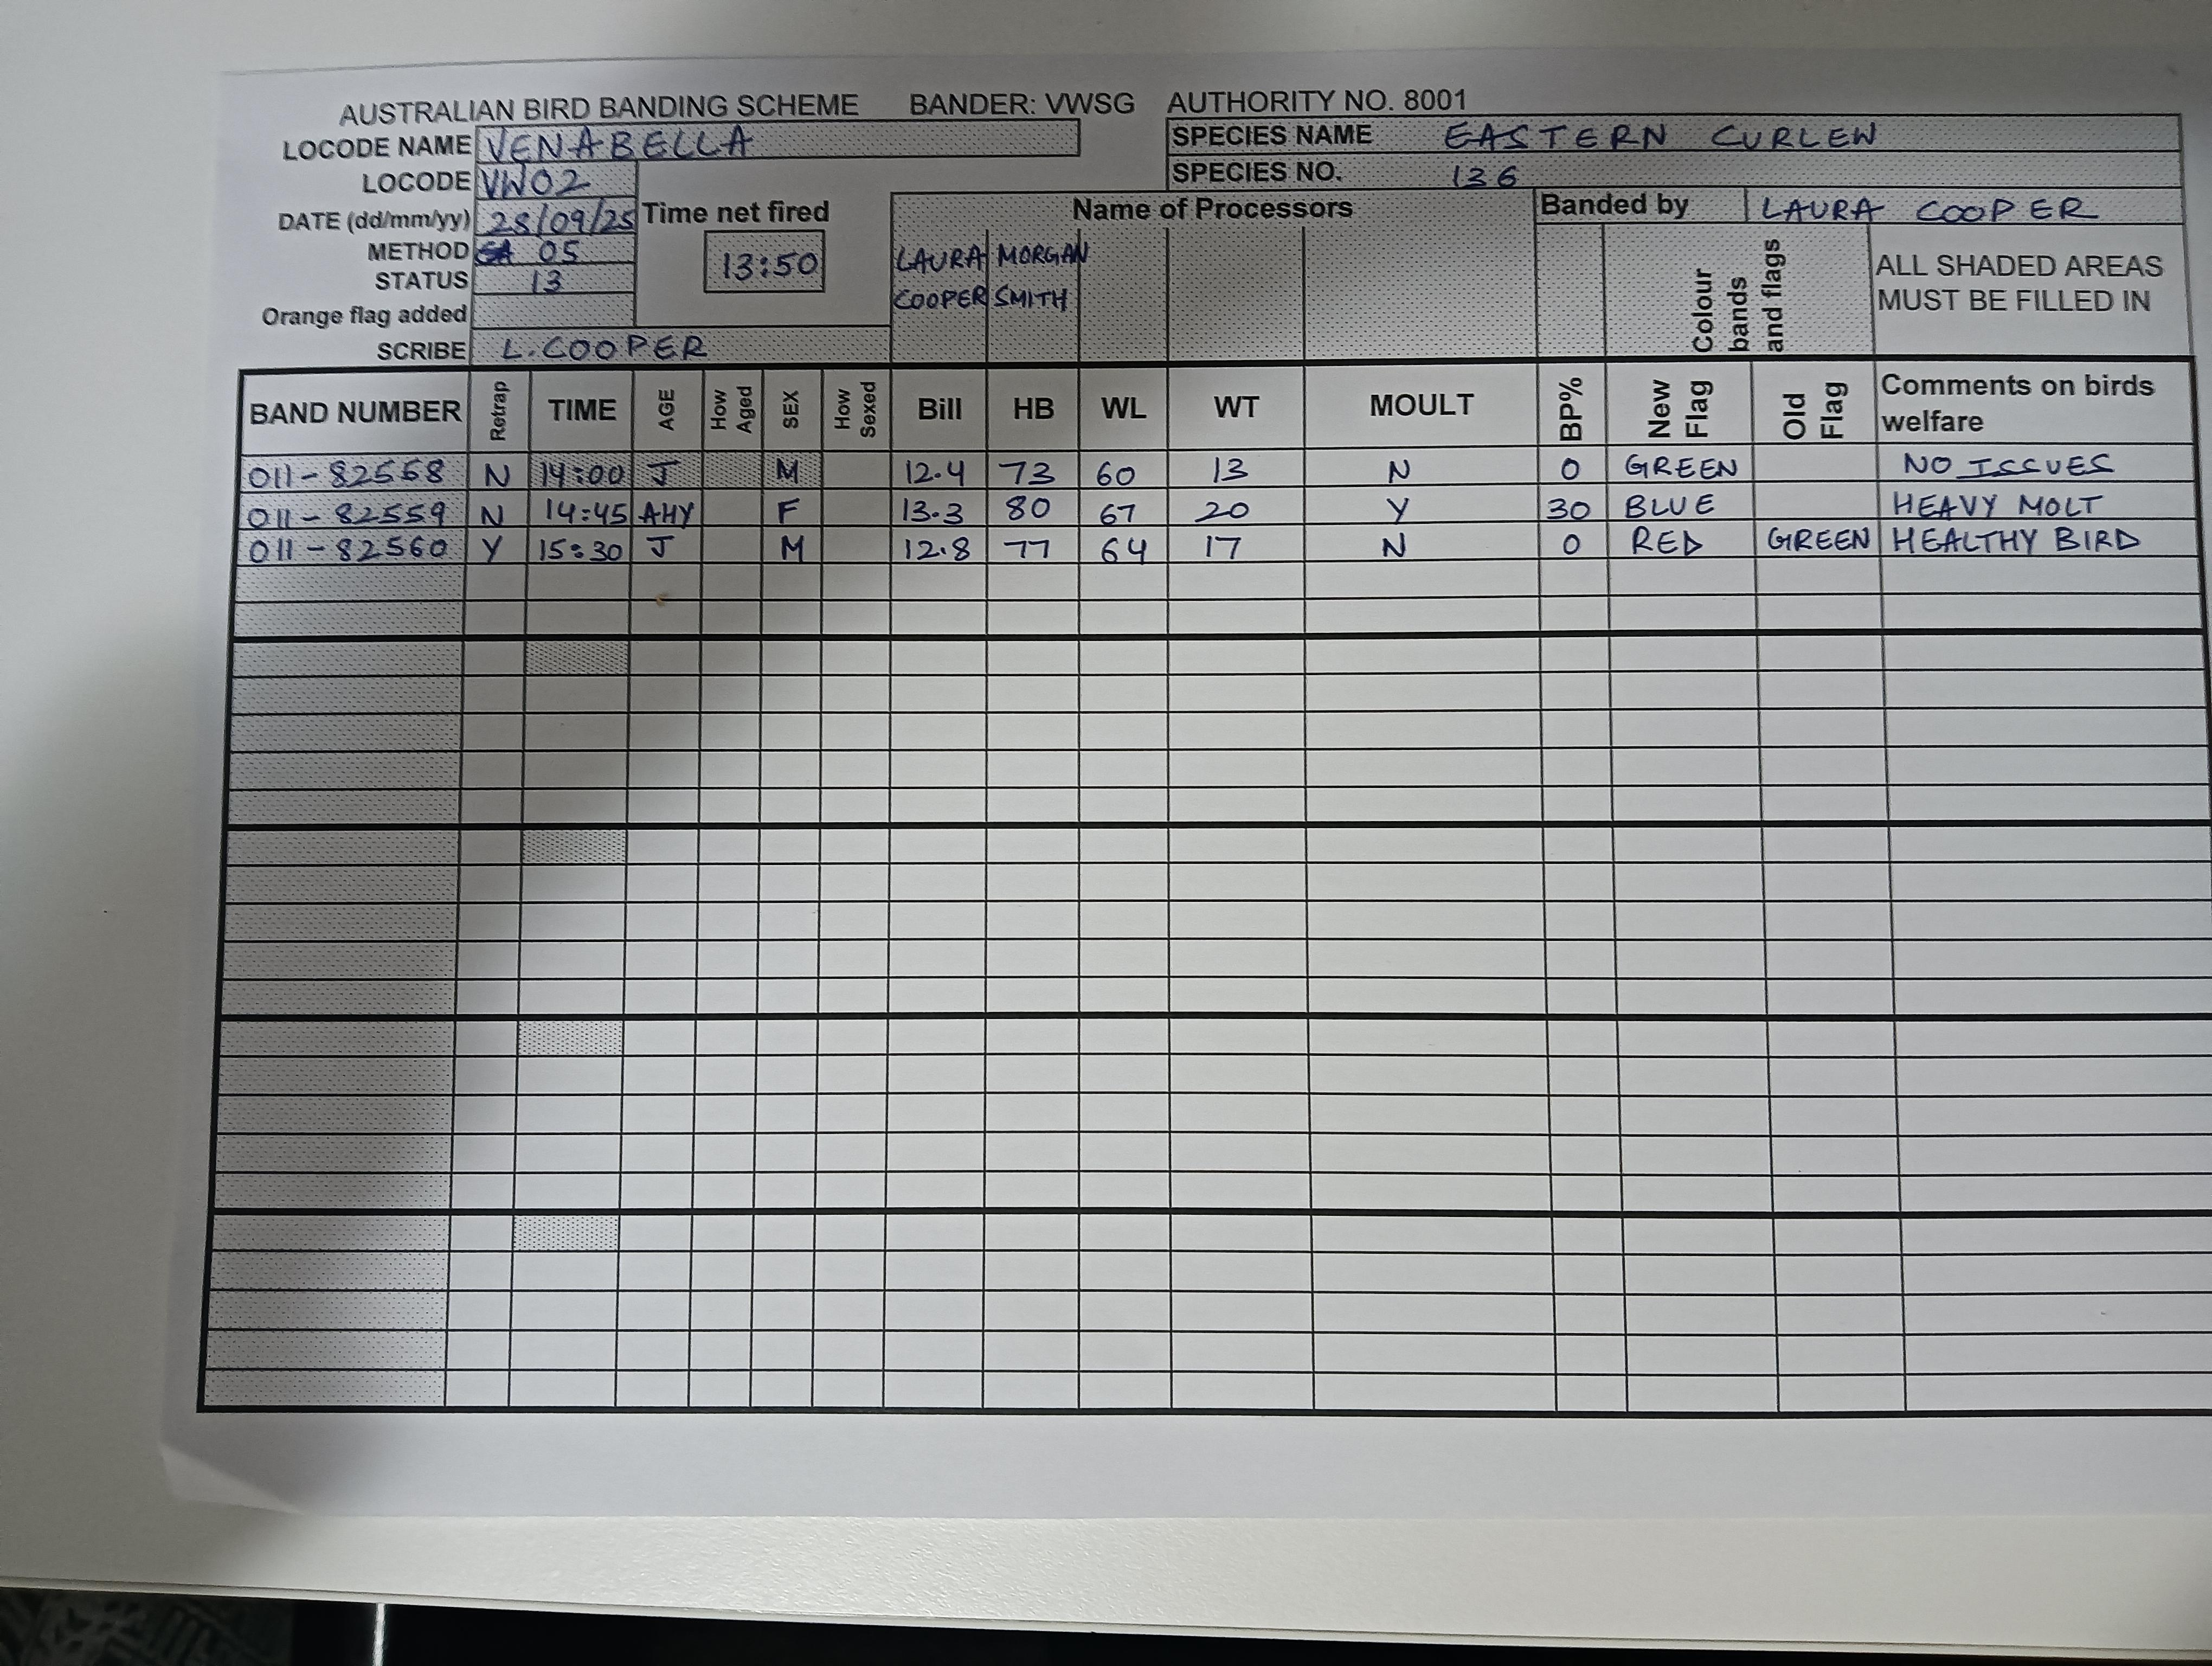BANDED_BY: (1541, 186, 2179, 221)
DATA: (243, 445, 2200, 492), (243, 490, 2205, 530), (241, 530, 2200, 563)
DATE: (276, 201, 642, 236)
LOCOCODE: (351, 161, 643, 198)
LOCOCODE_NAME: (266, 126, 1089, 163)
METHOD: (367, 240, 638, 266)
NAME_OF_PROCESSORS: (988, 214, 1091, 362), (897, 215, 984, 361)
ORANGE_FLAG_ADDED: (259, 296, 633, 329)
SCRIBE: (372, 332, 876, 364)
SPECIES_NAME: (1170, 116, 2181, 150)
SPECIES_NO: (1168, 154, 2186, 187)
STATUS: (372, 268, 640, 294)
TIME_NET_FIRED: (643, 187, 862, 303)
